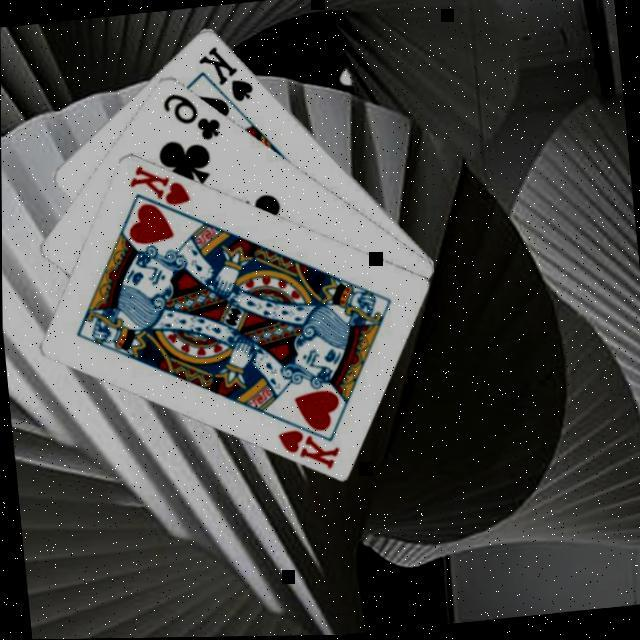6C: (160, 84, 226, 146)
KH: (124, 155, 194, 212), (274, 420, 344, 475)
KS: (196, 37, 259, 107)
